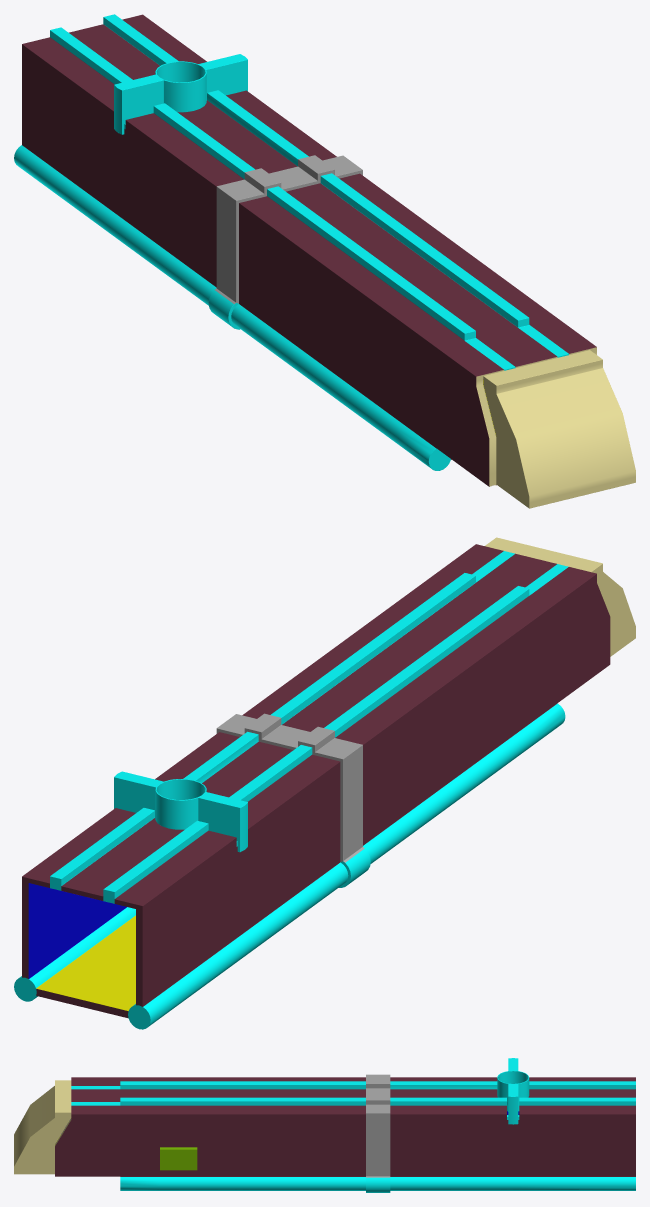
File: Train.fbx
The picture shows the model from 3 angles, top to bottom: view 1: azimuth 30°, elevation 25°; view 2: azimuth 150°, elevation 25°; view 3: azimuth 270°, elevation 25°; orthographic projection. The views are drawn at different scales.
Parts seen in each view (by area): view 1: Locomotora (×3); view 2: Locomotora (×3); view 3: Locomotora (×3), Locomotora.001.
Boxes of the visible parts, bbox=[...] form: Locomotora (×3): bbox=[14, 14, 635, 508]; Locomotora (×3): bbox=[14, 537, 635, 1029]; Locomotora (×3): bbox=[14, 1058, 635, 1192]; Locomotora.001: bbox=[160, 1147, 197, 1170].
Bounding box in the file's own units: 1251 × 1312 × 7600.
